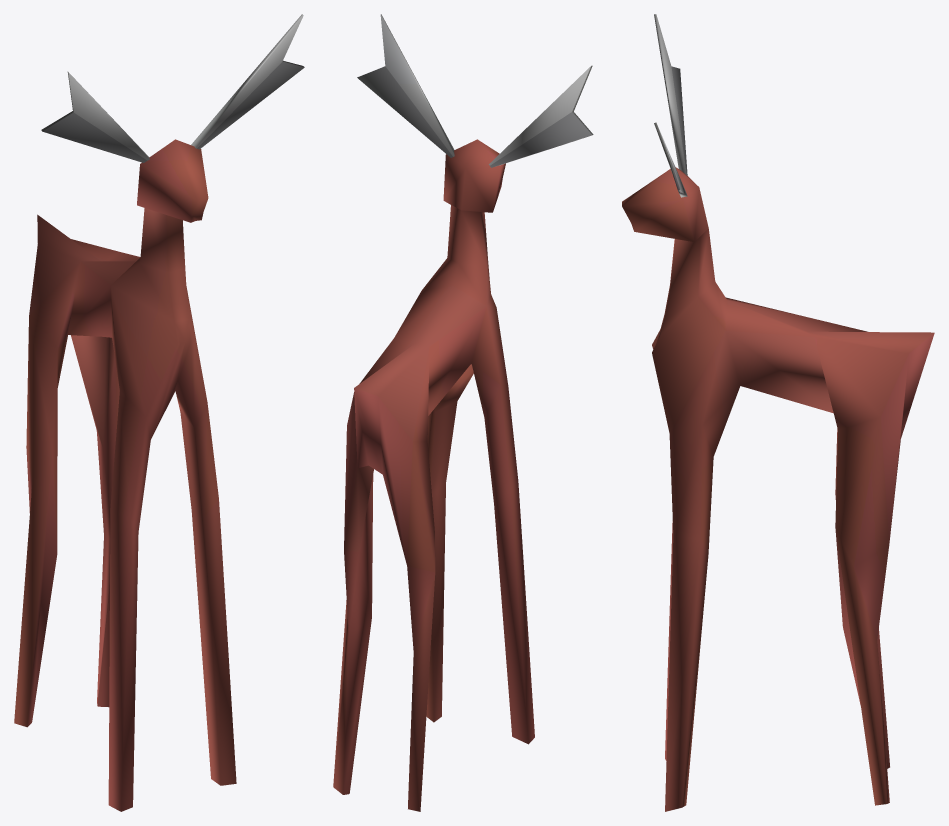
The model's file is Enemy_long.glb.
3 views of the same model, side by side, from view 1: azimuth 30°, elevation 25°; view 2: azimuth 150°, elevation 25°; view 3: azimuth 270°, elevation 25° (orthographic). The views are drawn at different scales.
Visible parts, largest first — view 1: olen; view 2: olen; view 3: olen.
Part boxes in pixels (x1,y1,x2,y2): olen: (14,14,304,811); olen: (333,14,593,811); olen: (622,14,934,811).
Bounding box in the file's own units: 4.95 × 13.68 × 5.39.
Materials: 1 (1 with a texture image).
